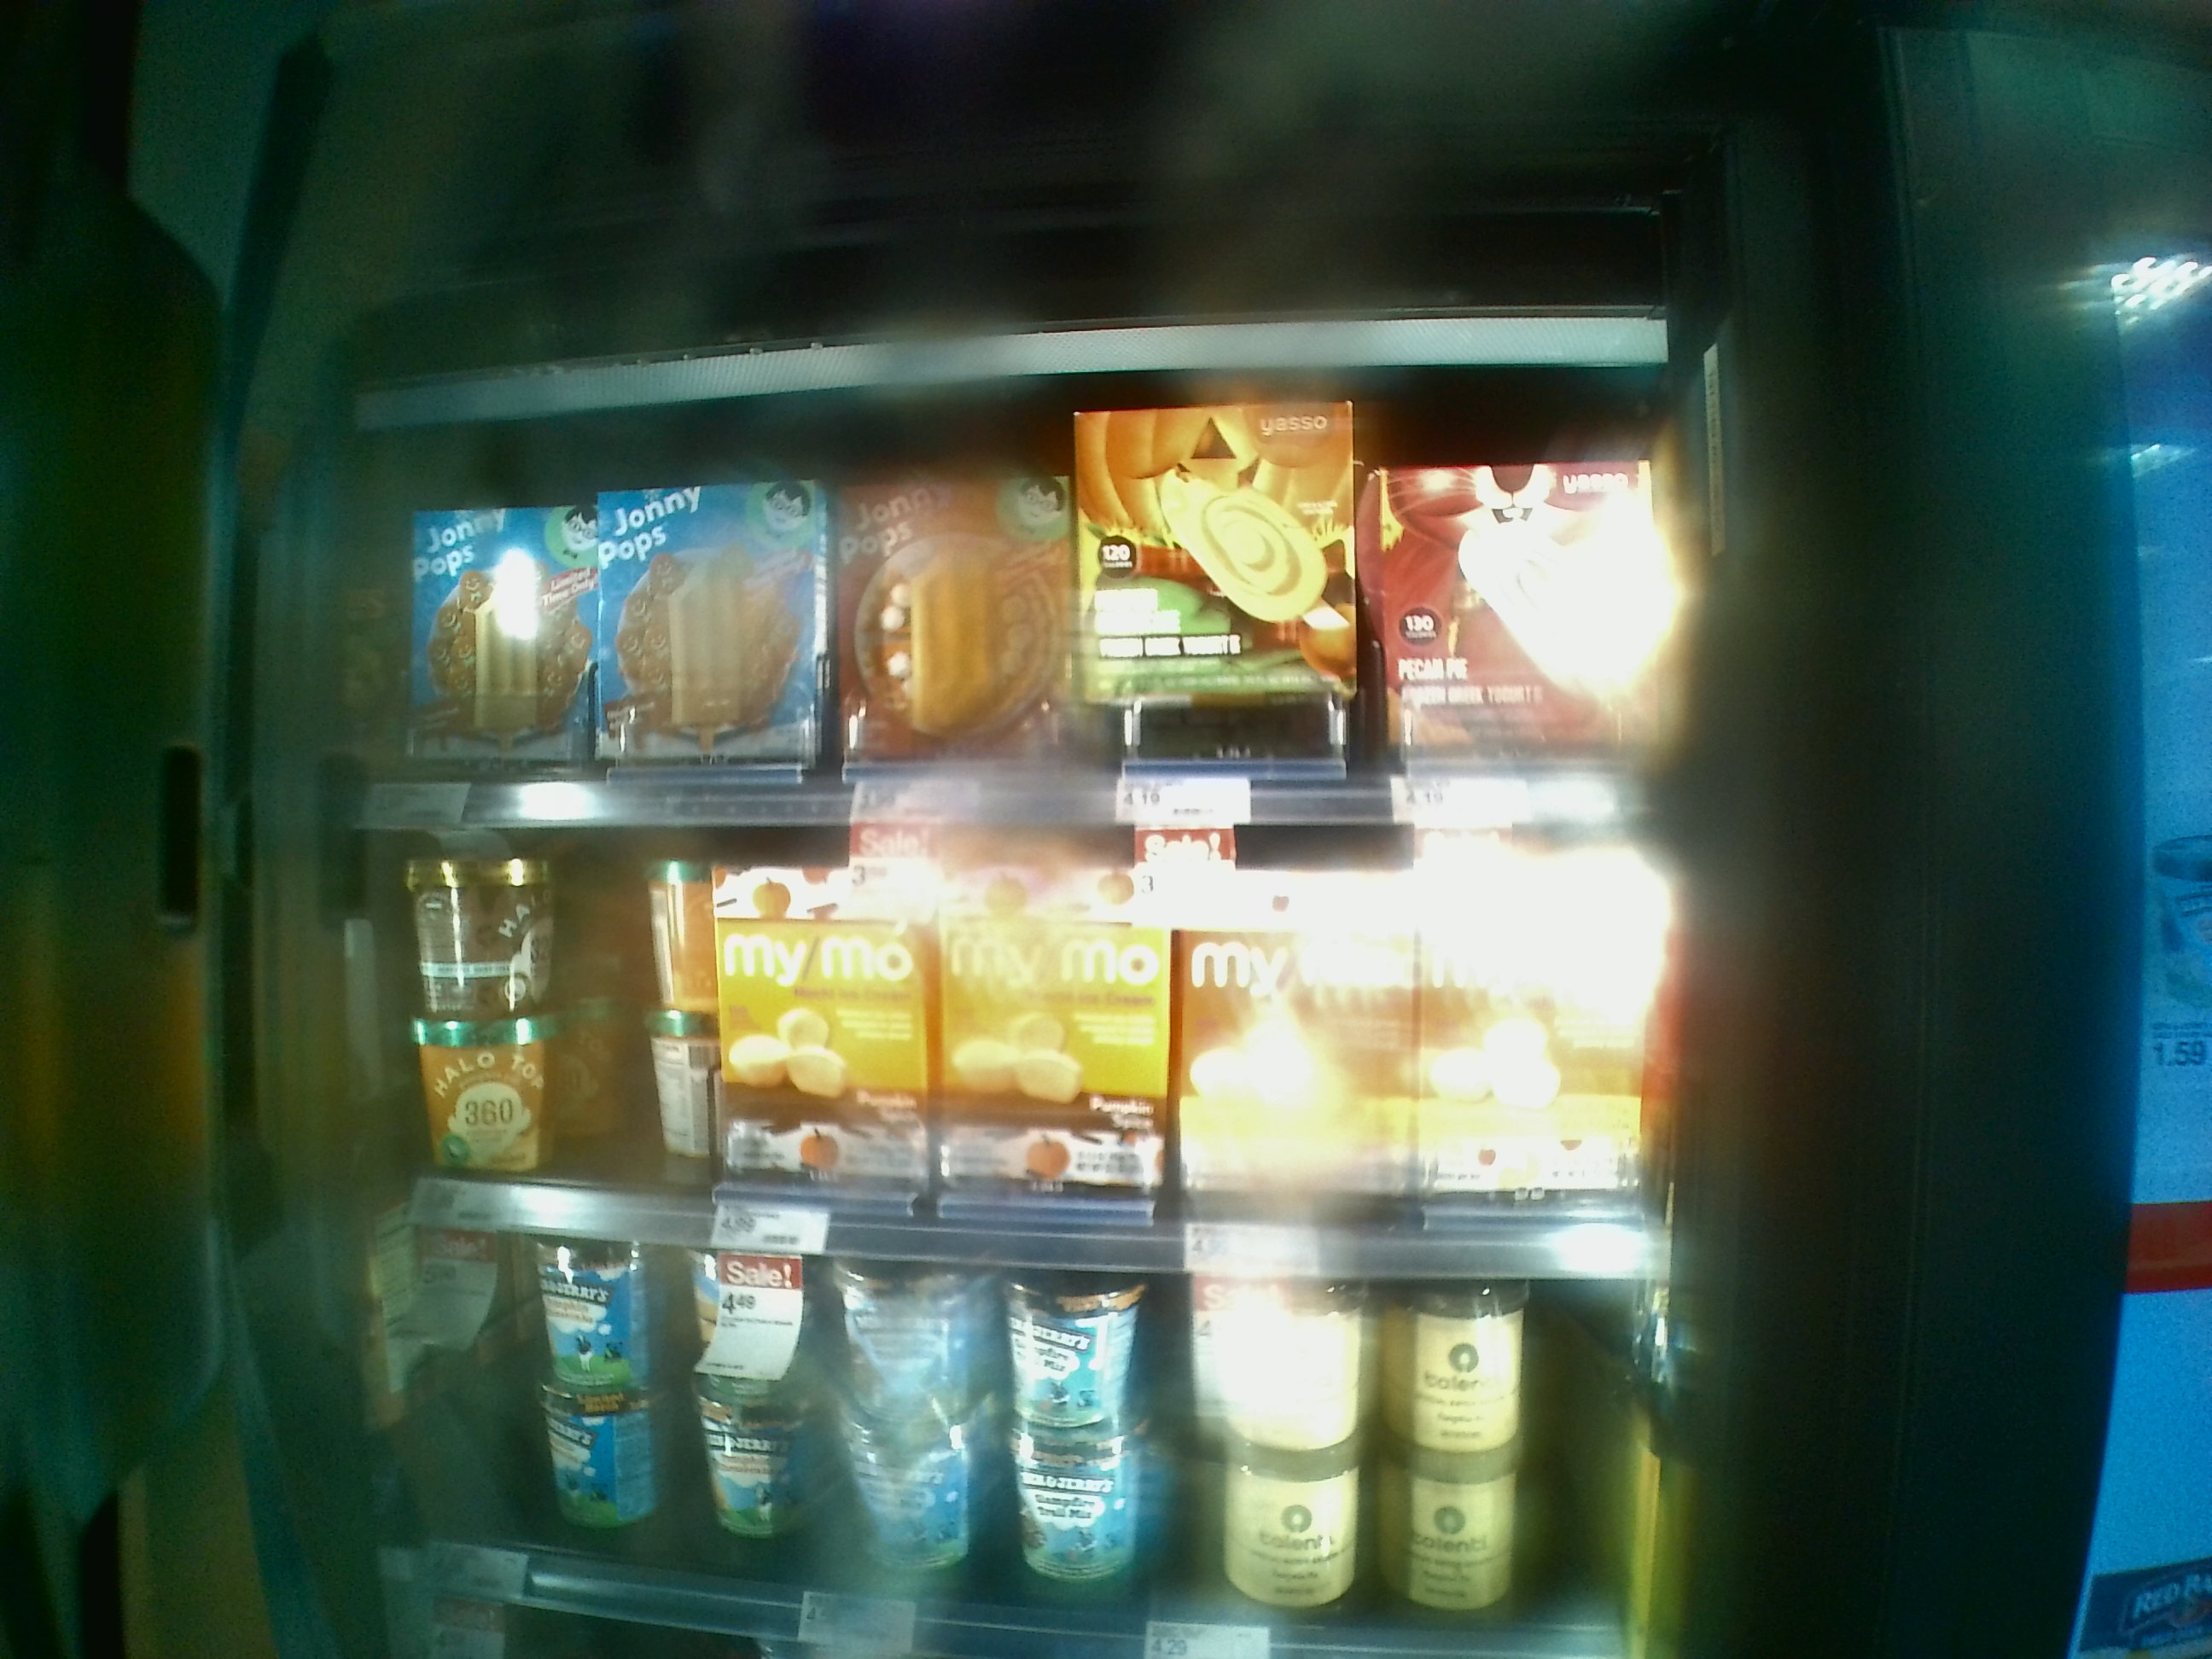shelf: (322, 793, 1698, 1281), (308, 385, 1705, 828)
